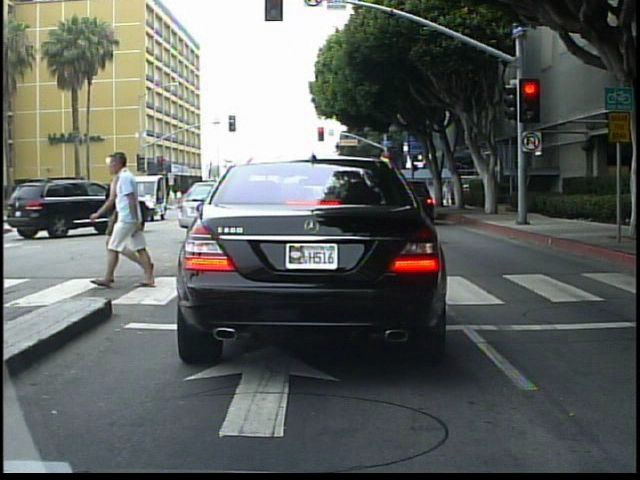person: (104, 150, 161, 291), (96, 147, 126, 288), (443, 176, 456, 210)
